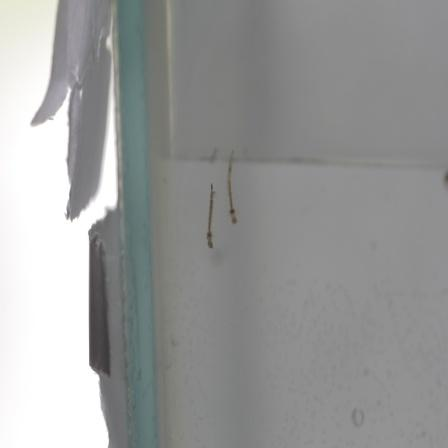Jentik-Nyamuk: (201, 178, 218, 253), (224, 164, 240, 226)
